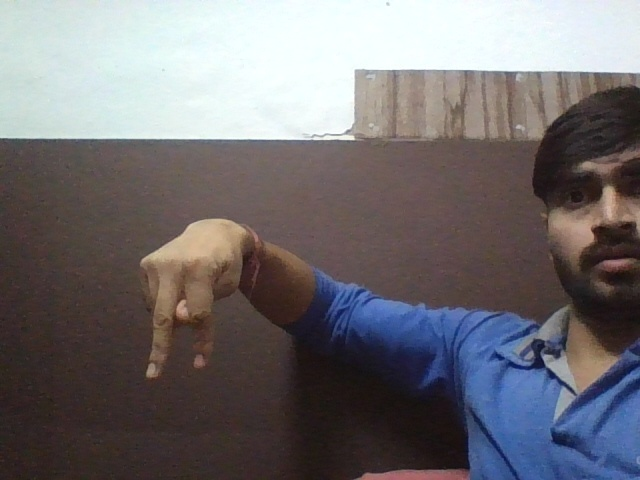P: (125, 219, 247, 389)
